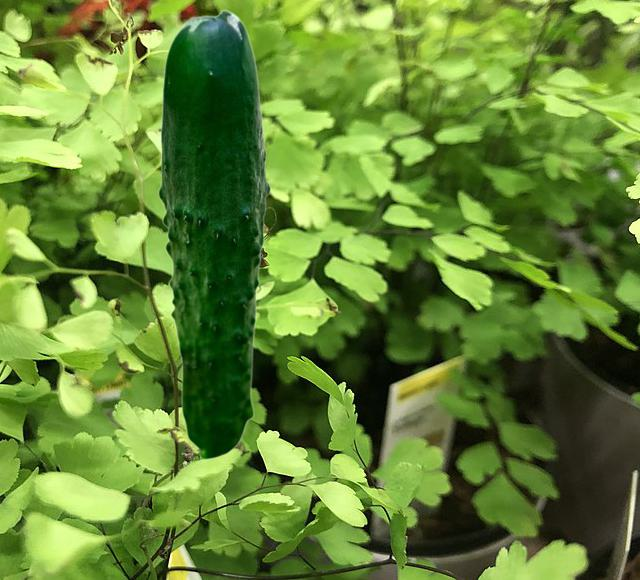cucumber: (157, 9, 270, 459)
